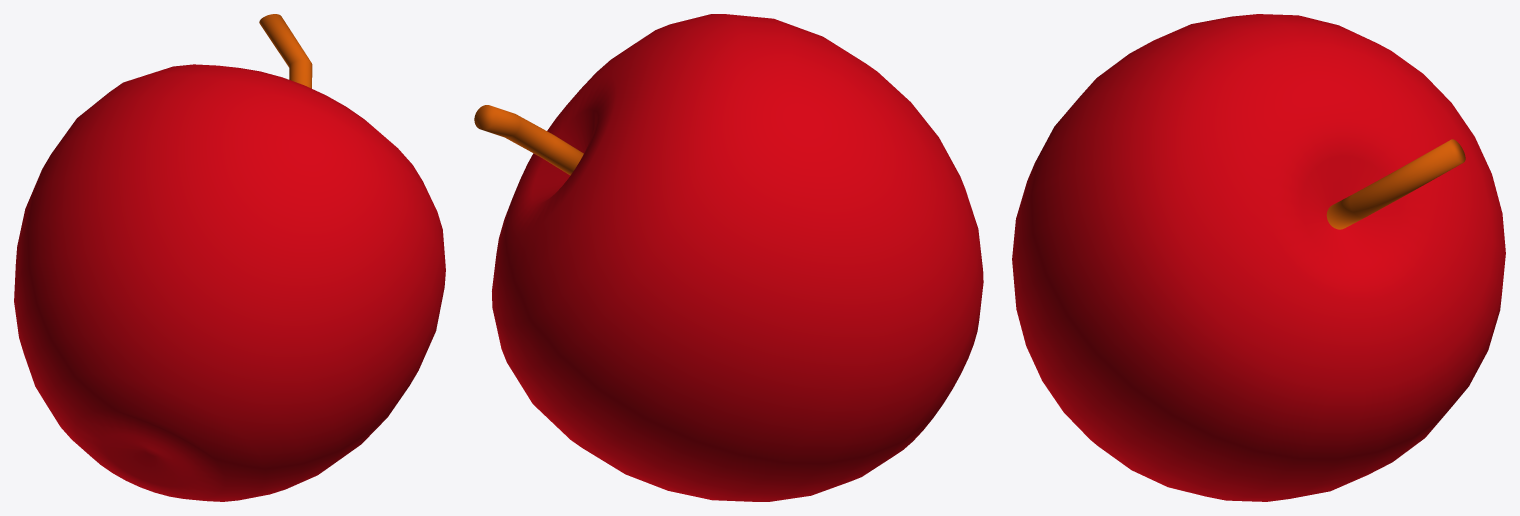
File: fruit_01.dae
3 views of the same model, side by side, from view 1: azimuth 30°, elevation 25°; view 2: azimuth 150°, elevation 25°; view 3: azimuth 270°, elevation 25° (orthographic). The views are drawn at different scales.
Parts seen in each view (by area): view 1: Apple; view 2: Apple; view 3: Apple.
Boxes of the visible parts, x1=… form: Apple: x1=14, y1=14, x2=445, y2=501; Apple: x1=474, y1=14, x2=983, y2=501; Apple: x1=1012, y1=14, x2=1505, y2=501.
Size of the model in its own units: 2.06 by 2.04 by 2.06.
